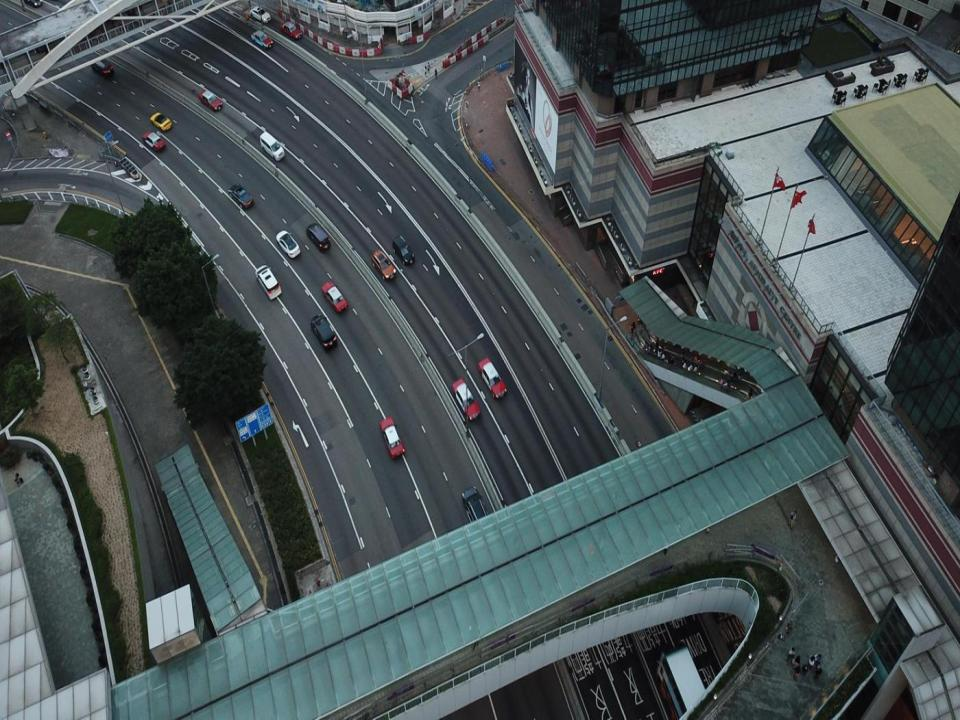car: (477, 356, 507, 400), (463, 485, 489, 534), (453, 378, 479, 421), (379, 416, 403, 458), (311, 311, 336, 351), (255, 263, 281, 301), (321, 280, 347, 312), (276, 230, 302, 258), (393, 234, 414, 268), (372, 246, 394, 278), (306, 222, 330, 250), (228, 183, 253, 209), (142, 130, 167, 152), (198, 88, 222, 110), (90, 56, 113, 76), (250, 30, 273, 49), (280, 20, 302, 39), (150, 112, 171, 131), (250, 6, 270, 25), (22, 0, 41, 7)
van: (260, 130, 285, 162)
